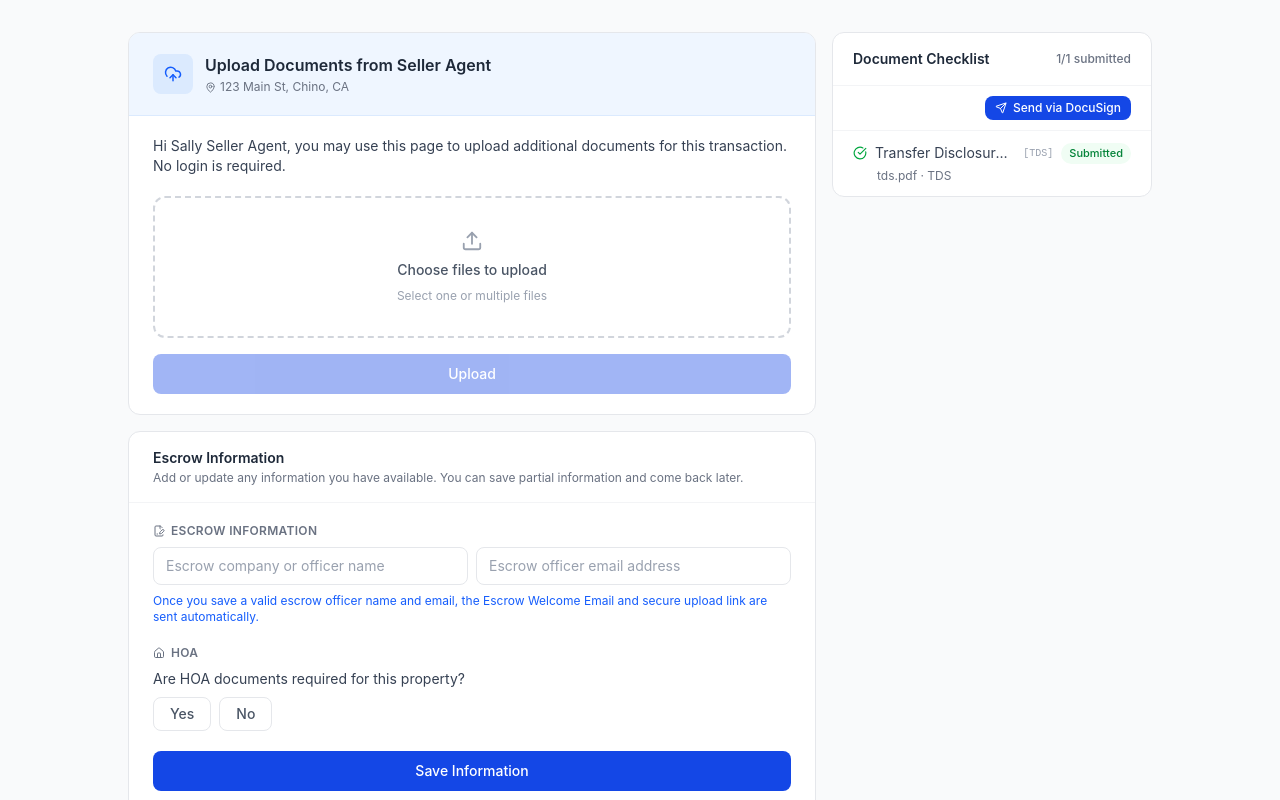
Test: SellerAgentUploadPage — centralized "Send via DocuSign" action › sends only the confirmed selection to sendDocumentsDocusign and closes the modal on success
This screenshot has width=1280, height=800.
Click the button "Send via DocuSign": (1058, 108) [985,96,1131,120]
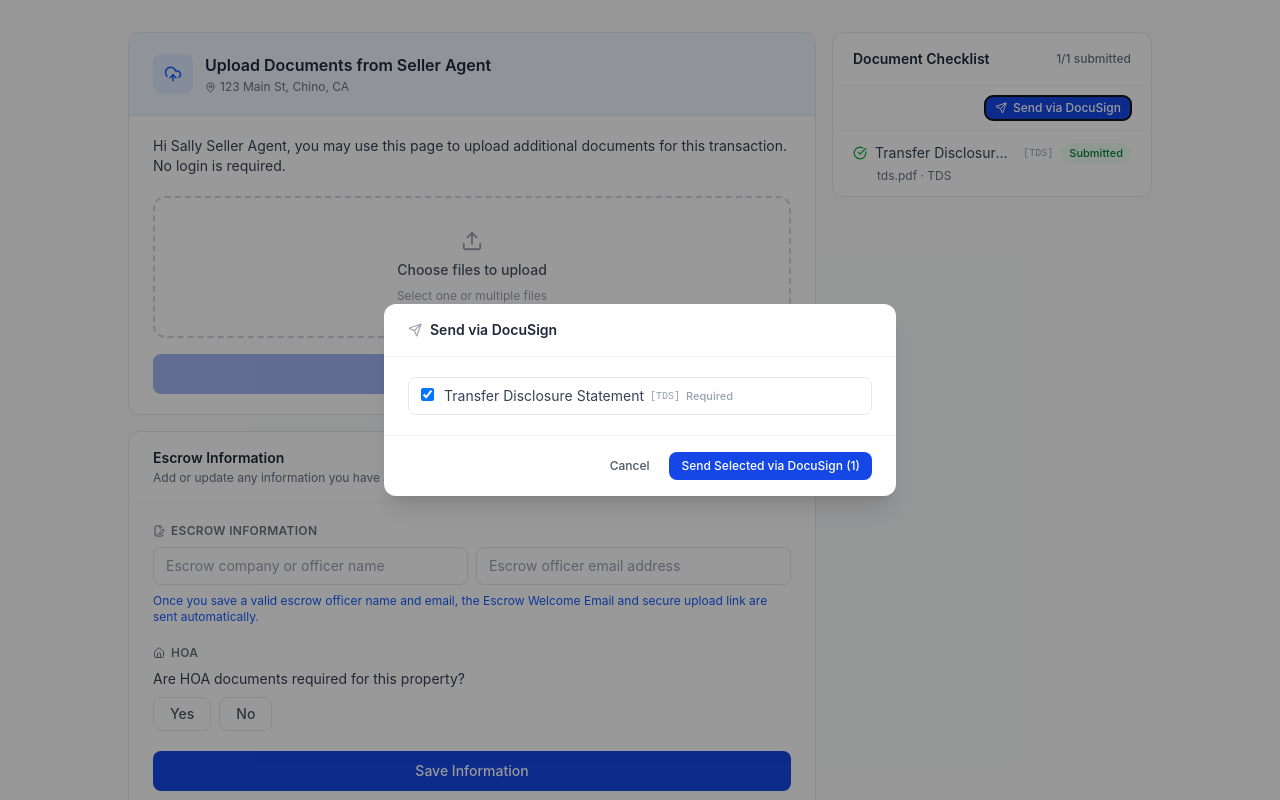
Click the button "Send Selected via DocuSign (1)": (771, 466) [670,452,872,480]
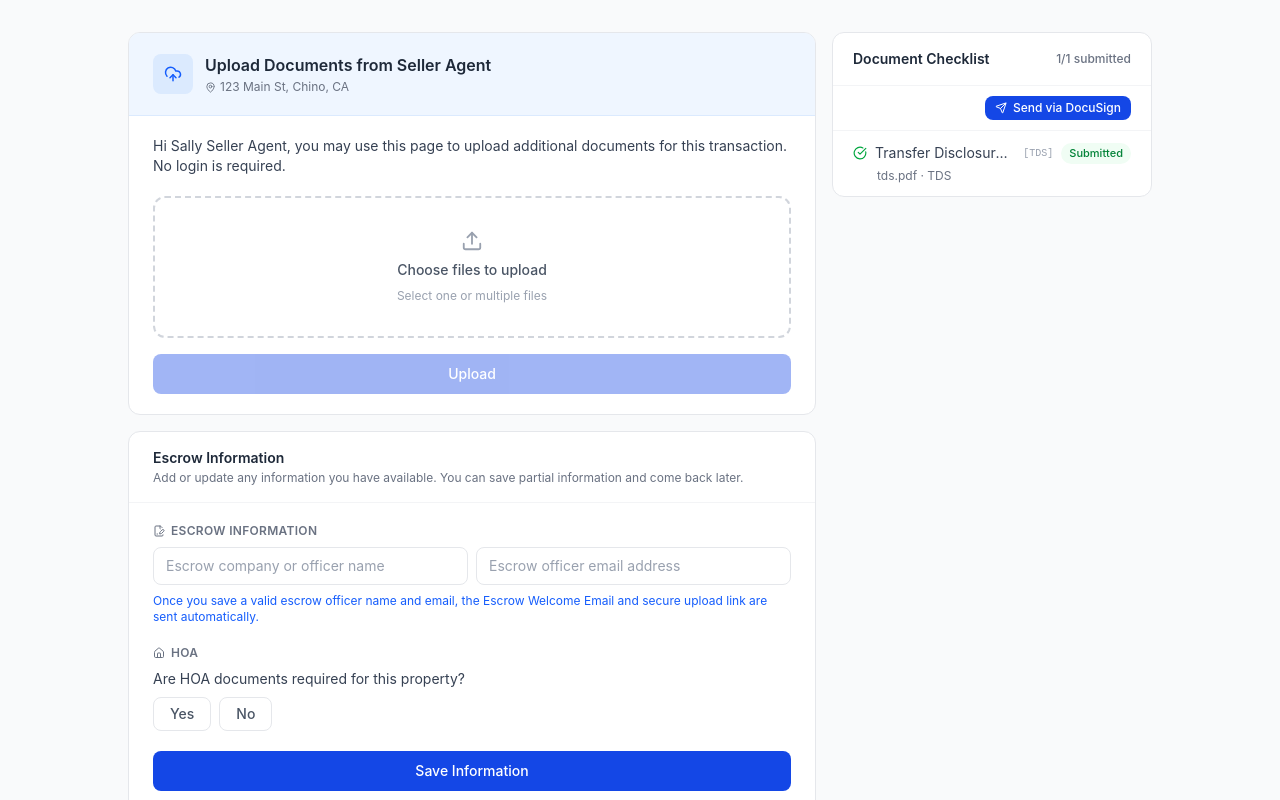
Expected: the button "Send Selected via DocuSign" is gone
